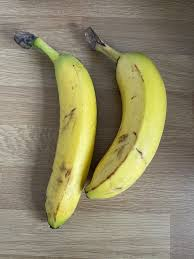banana: (5, 24, 97, 234), (80, 24, 173, 200)
